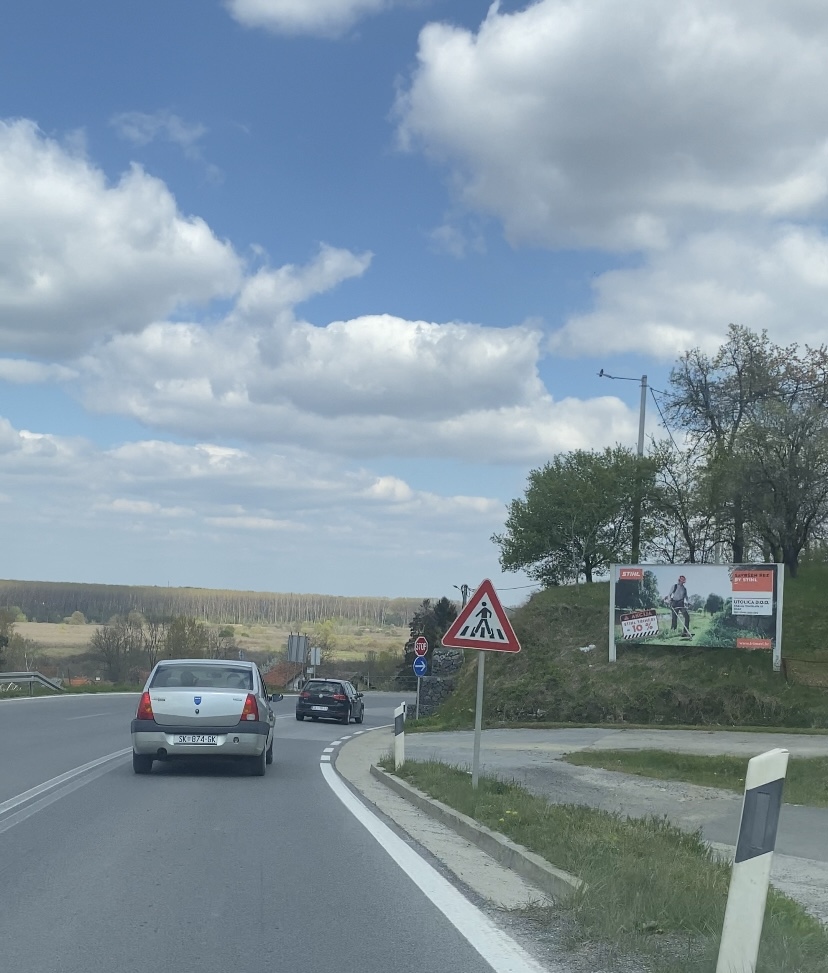Obavezno zaustavljanje: (414, 636, 429, 657)
Približavanje pješačkom prijelazu: (441, 578, 522, 653)
